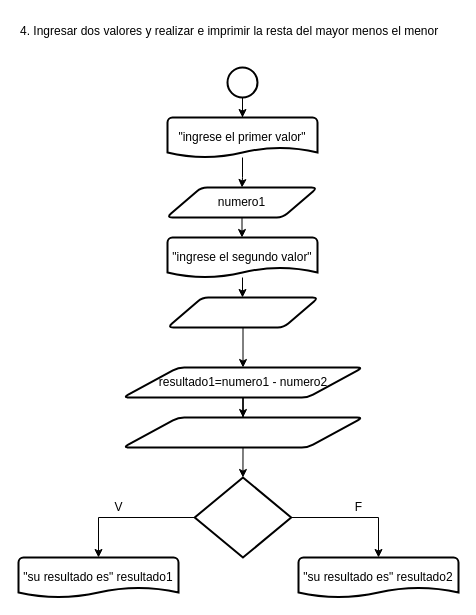
Image size: 476x615. Some labels were removed from this diagram. The shapes that lost their labels are listed below. From the top down, each one's centre as x and y in pixels, then its label:
At (x=242, y=312): "numero2".
At (x=243, y=432): "resultado2=numero2 - numero1".
At (x=242, y=517): "numero1 > numero2".
